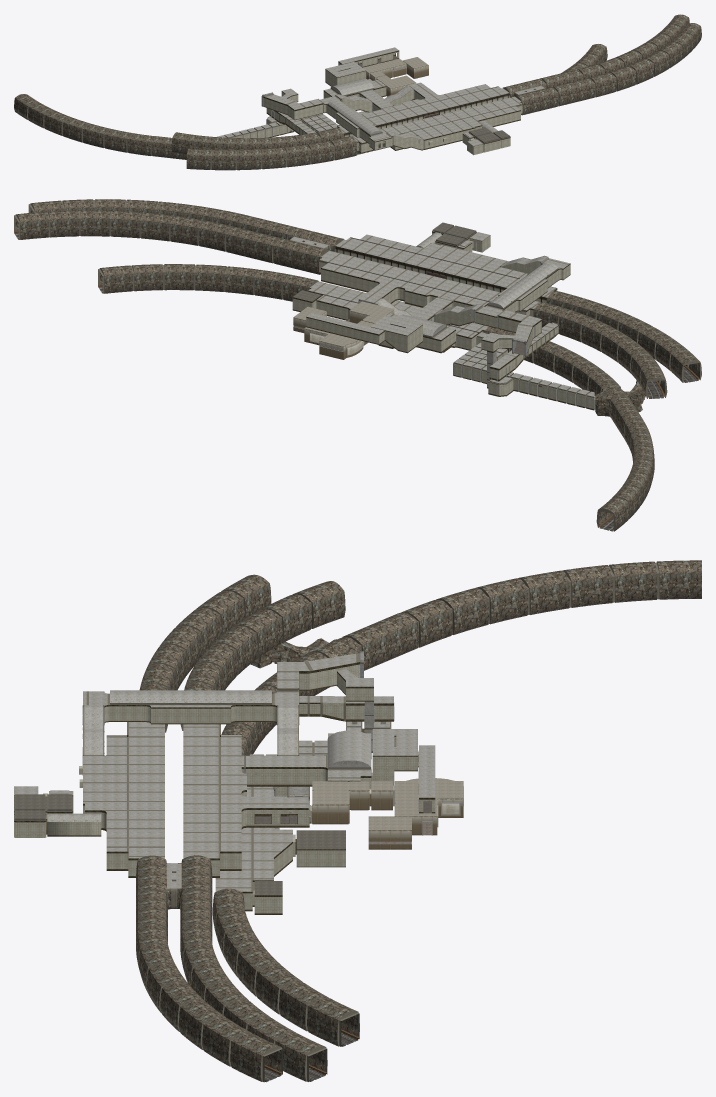
Rendered from metro.glb.
3 renders of one model, top to bottom at view 1: azimuth 30°, elevation 25°; view 2: azimuth 150°, elevation 25°; view 3: azimuth 270°, elevation 25°, orthographic. The views are drawn at different scales.
Visible parts, largest first — view 1: rock_under walls_0, roof beton_001_roof beton_0, wall6_wall6_0, roof metal_001_roof metal_0, wall6 metal_001_wall6 metal_0, roof floor6 top_floor6_0, wall4__wall4_0, wall7_wall7_0, floor5 border_001_floor5 border_0, roof floor3_floor3_0; view 2: rock_under walls_0, roof beton_001_roof beton_0, wall6_wall6_0, roof metal_001_roof metal_0, wall6 metal_001_wall6 metal_0, floor5 border_001_floor5 border_0, roof floor6 top_floor6_0, wall4__wall4_0, wall7_wall7_0, roof floor3_floor3_0, metal_floor4_0; view 3: rock_under walls_0, roof beton_001_roof beton_0, wall6_wall6_0, roof metal_001_roof metal_0, roof floor6 top_floor6_0, wall7_wall7_0, roof floor3_floor3_0, wall6 metal_001_wall6 metal_0, floor5 border_001_floor5 border_0.
Part boxes in pixels (x1,y1,x2,y2): rock_under walls_0: (14,14,701,170); roof beton_001_roof beton_0: (217,47,545,146); wall6_wall6_0: (232,51,522,155); roof metal_001_roof metal_0: (27,17,694,169); wall6 metal_001_wall6 metal_0: (263,50,522,146); roof floor6 top_floor6_0: (362,56,428,88); wall4__wall4_0: (344,93,509,137); wall7_wall7_0: (366,61,428,96); floor5 border_001_floor5 border_0: (263,55,522,153); roof floor3_floor3_0: (412,100,510,143); rock_under walls_0: (15,199,700,531); roof beton_001_roof beton_0: (290,232,595,409); wall6_wall6_0: (292,232,594,408); roof metal_001_roof metal_0: (14,200,701,531); wall6 metal_001_wall6 metal_0: (292,231,570,384); floor5 border_001_floor5 border_0: (292,272,594,410); roof floor6 top_floor6_0: (293,301,393,346); wall4__wall4_0: (335,246,546,302); wall7_wall7_0: (293,310,394,359); roof floor3_floor3_0: (293,222,476,321); metal_floor4_0: (14,233,698,531); rock_under walls_0: (136,560,701,1081); roof beton_001_roof beton_0: (14,653,435,891); wall6_wall6_0: (14,664,435,913); roof metal_001_roof metal_0: (82,561,659,1082); roof floor6 top_floor6_0: (312,778,463,829); wall7_wall7_0: (312,789,463,849); roof floor3_floor3_0: (14,794,345,895); wall6 metal_001_wall6 metal_0: (14,661,435,896); floor5 border_001_floor5 border_0: (46,684,435,914).
Size of what is drawn, in the model's own units: 23205 by 1739 by 12735.
Materials: 58 (57 with a texture image).
